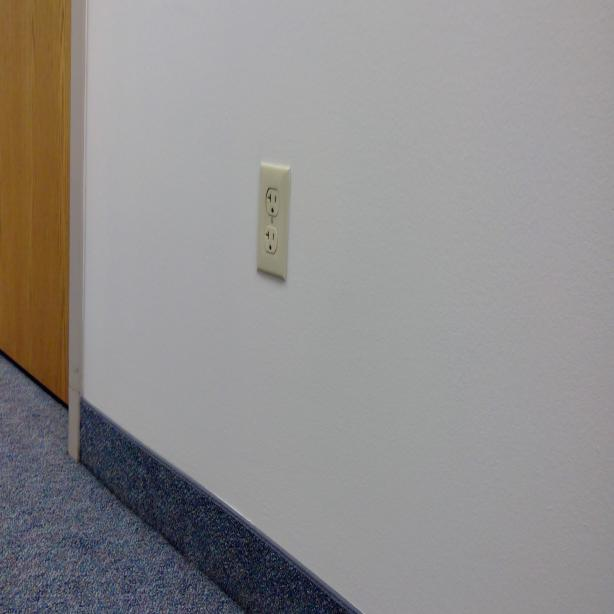typeb: (264, 190, 282, 218), (263, 227, 278, 256)
